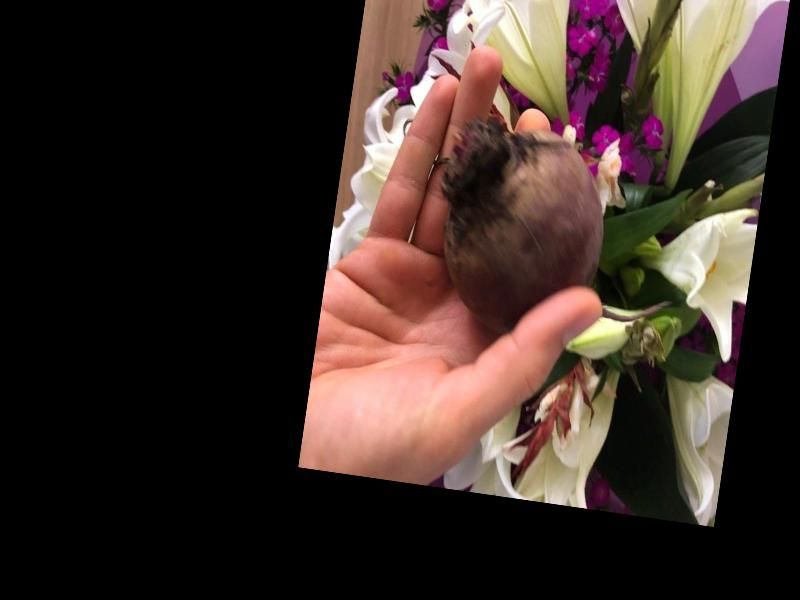Beet: (428, 114, 693, 353)
